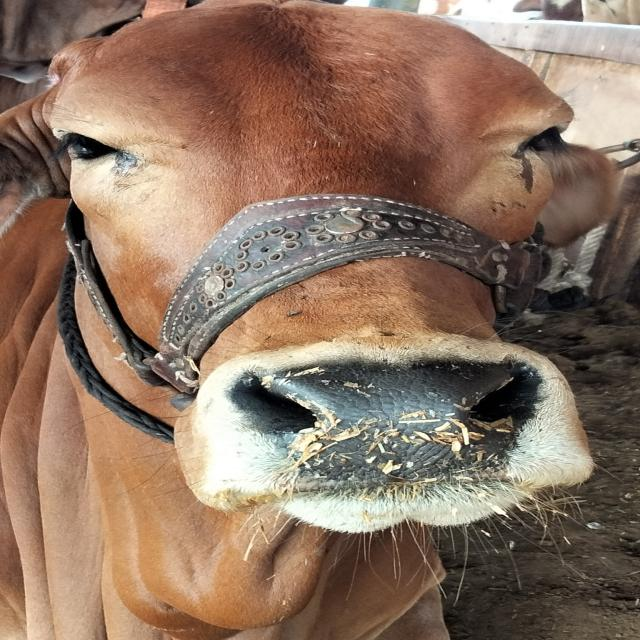muzzles: (210, 346, 550, 506)
